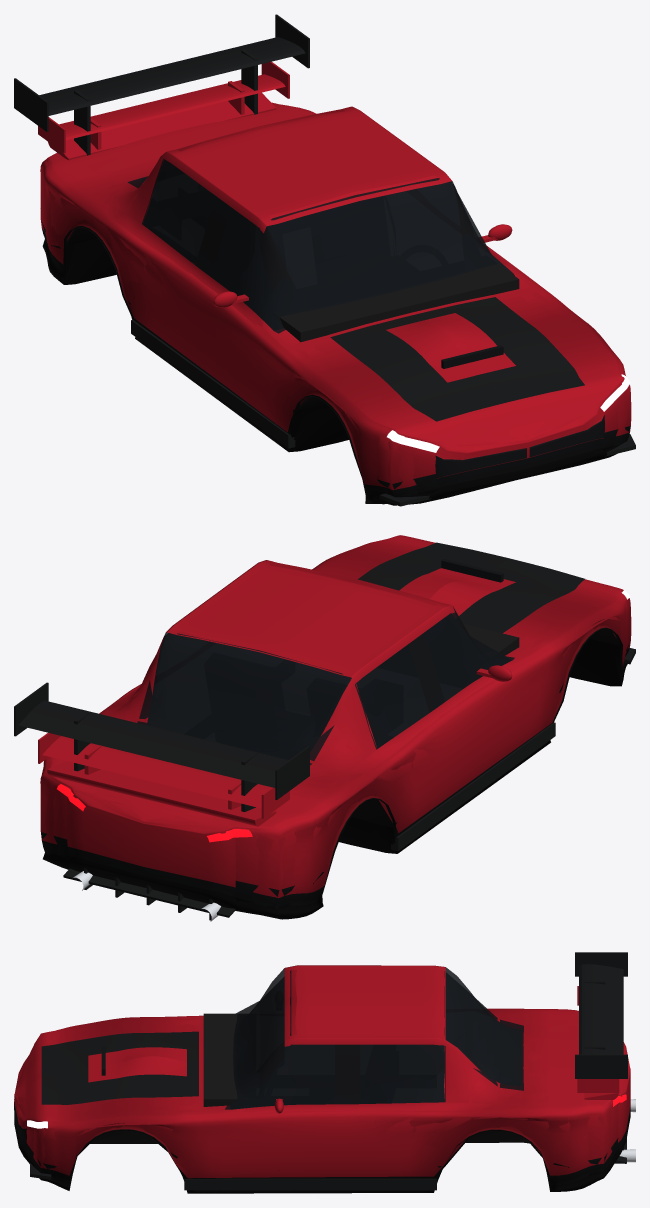
File: sr_bmw_m4_f82.glb
The picture shows the model from 3 angles, top to bottom: view 1: azimuth 30°, elevation 25°; view 2: azimuth 150°, elevation 25°; view 3: azimuth 270°, elevation 25°; orthographic projection. The views are drawn at different scales.
Parts seen in each view (by area): view 1: body (×2), hood_3, spoiler_3, interior, spoiler_2, hood_1, spoiler_1, bumper_1, grille, mirrors; view 2: body (×2), spoiler_3, hood_3, spoiler_2, bumper_1, spoiler_1, hood_1, interior, hood_1_intake; view 3: body (×2), hood_3, spoiler_3, bumper_1, interior, hood_1, spoiler_2.
Boxes of the visible parts, box(x1,y1,x2,y2) form: body (×2): box(40, 102, 631, 505); hood_3: box(330, 297, 584, 421); spoiler_3: box(14, 14, 309, 155); interior: box(279, 264, 519, 342); spoiler_2: box(38, 61, 289, 153); hood_1: box(386, 313, 515, 382); spoiler_1: box(48, 92, 276, 160); bumper_1: box(131, 320, 635, 506); grille: box(435, 415, 604, 478); mirrors: box(213, 224, 512, 307); body (×2): box(40, 535, 631, 919); spoiler_3: box(14, 682, 309, 811); hood_3: box(358, 542, 584, 633); spoiler_2: box(38, 732, 289, 818); bumper_1: box(63, 648, 635, 920); spoiler_1: box(47, 761, 276, 826); hood_1: box(399, 568, 515, 615); interior: box(463, 624, 519, 655); hood_1_intake: box(441, 559, 503, 582); body (×2): box(14, 965, 630, 1193); hood_3: box(41, 1031, 198, 1104); spoiler_3: box(575, 952, 627, 1078); bumper_1: box(30, 1138, 626, 1190); interior: box(203, 1013, 237, 1106); hood_1: box(88, 1047, 186, 1082); spoiler_2: box(577, 986, 619, 1092).
Size of the model in its own units: 2.1 by 1.21 by 4.71.
